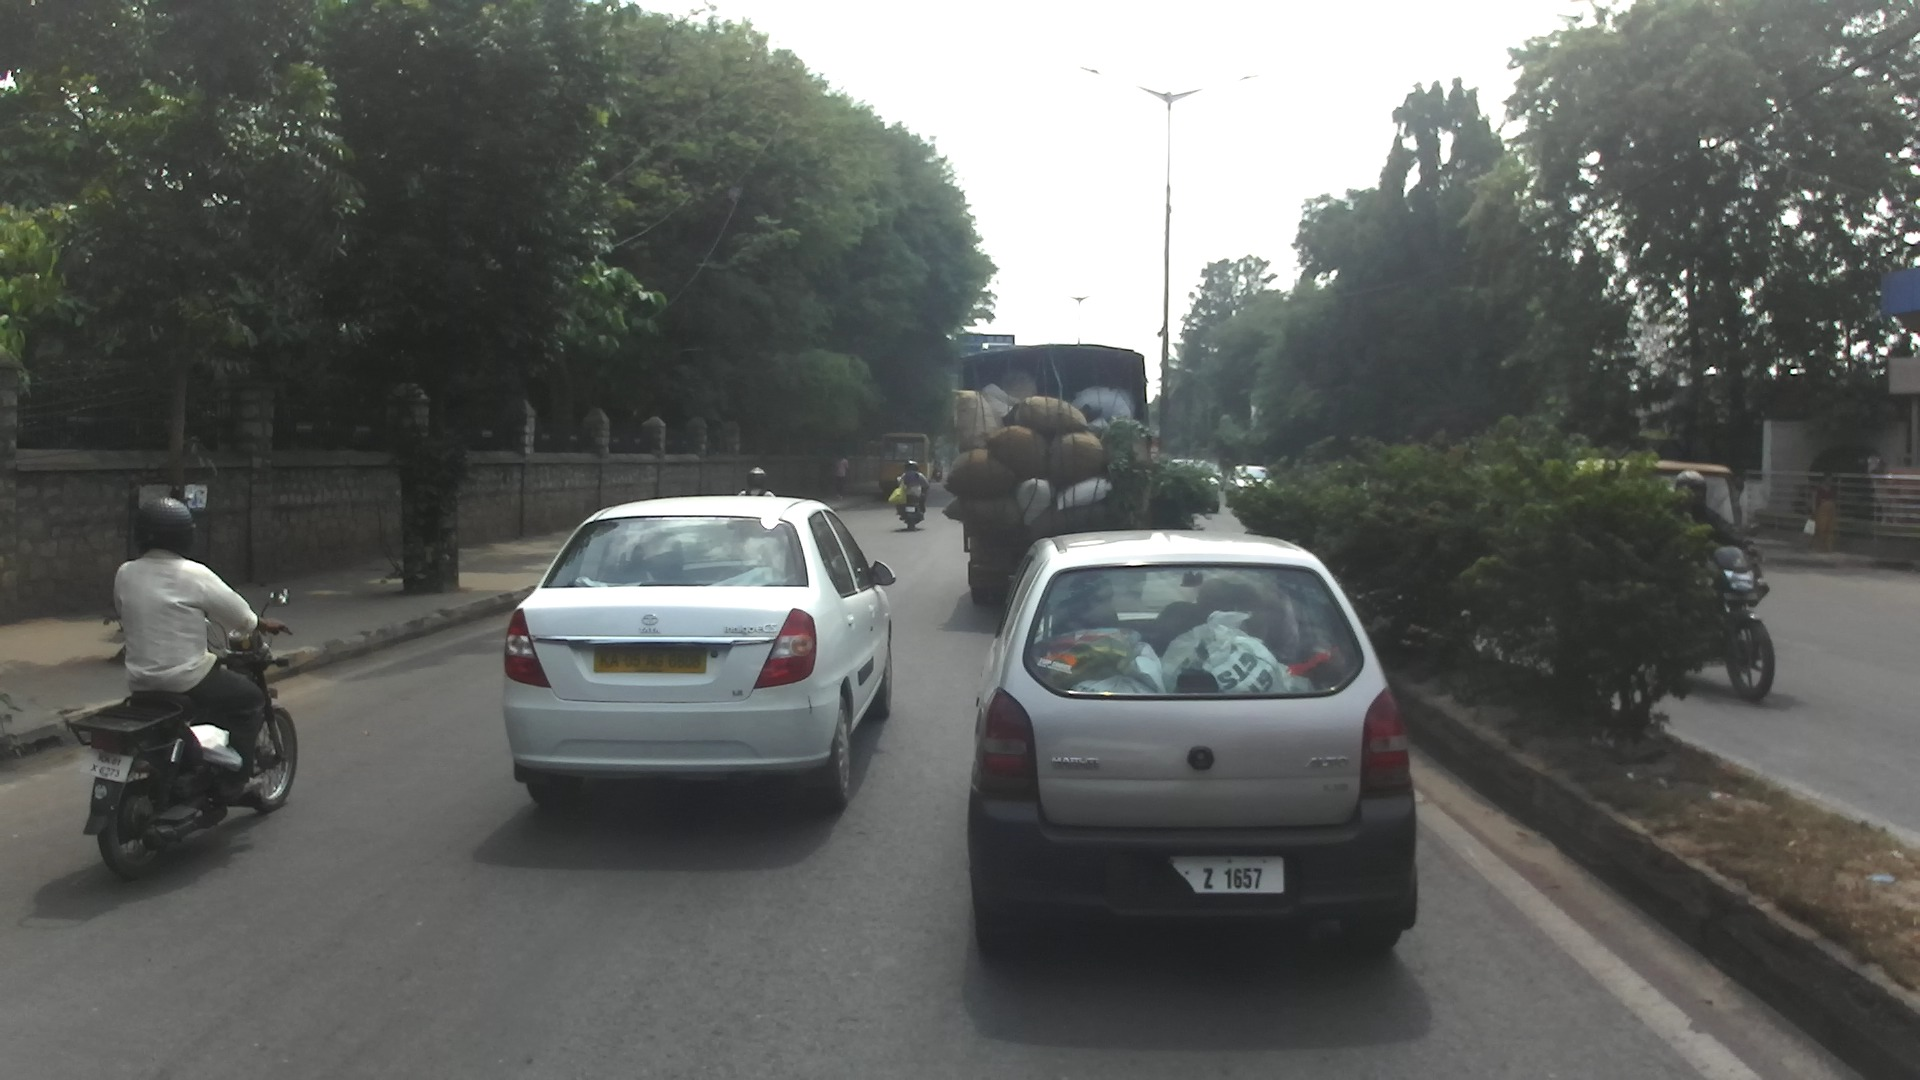autorickshaw: (1574, 459, 1745, 569)
bus: (875, 431, 932, 494)
car: (965, 528, 1419, 961), (495, 493, 898, 815), (1171, 457, 1222, 516), (1224, 463, 1274, 507)
motorcycle: (62, 585, 300, 879), (1642, 520, 1776, 701), (893, 478, 926, 532), (932, 470, 943, 482)
person: (1804, 468, 1840, 554), (833, 451, 852, 499)
rider: (109, 499, 291, 805), (1662, 470, 1754, 561), (894, 459, 928, 521), (736, 468, 774, 507), (934, 459, 943, 477)
truck: (945, 343, 1149, 608)
